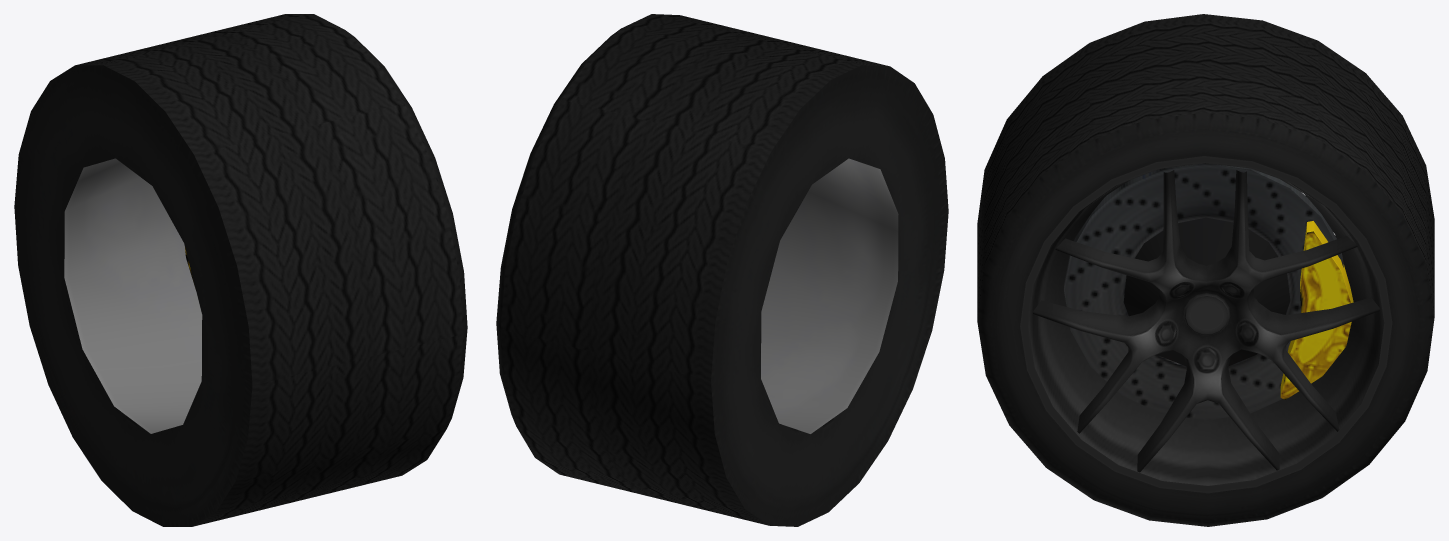
Rendered from WP27_wheelpack.glb.
3 views of the same model, side by side, from view 1: azimuth 30°, elevation 25°; view 2: azimuth 150°, elevation 25°; view 3: azimuth 270°, elevation 25° (orthographic). The views are drawn at different scales.
Visible parts, largest first — view 1: MOD_ND_WP27_tyre, MOD_ND_WP27_rim; view 2: MOD_ND_WP27_tyre, MOD_ND_WP27_rim; view 3: MOD_ND_WP27_tyre, MOD_ND_WP27_rim, MOD_ND_WP27_brakes.
Part boxes in pixels (bbox=[...]): MOD_ND_WP27_tyre: bbox=[14, 14, 467, 526]; MOD_ND_WP27_rim: bbox=[64, 158, 202, 433]; MOD_ND_WP27_tyre: bbox=[496, 14, 948, 526]; MOD_ND_WP27_rim: bbox=[761, 158, 898, 433]; MOD_ND_WP27_tyre: bbox=[977, 14, 1434, 526]; MOD_ND_WP27_rim: bbox=[1020, 156, 1392, 493]; MOD_ND_WP27_brakes: bbox=[1064, 163, 1353, 420].
Bounding box in the file's own units: 0.3527 × 0.6414 × 0.6414.
2 materials, 2 textured.
